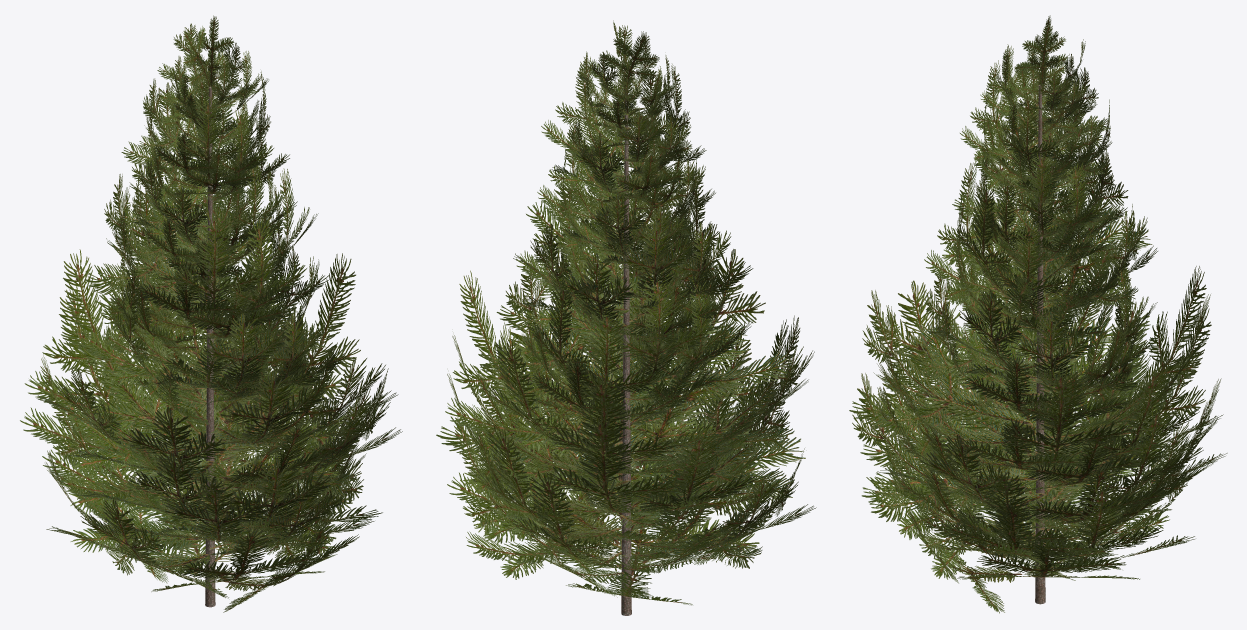
Rendered from tree.fbx.
The picture shows the model from 3 angles, left to right: view 1: azimuth 30°, elevation 25°; view 2: azimuth 150°, elevation 25°; view 3: azimuth 270°, elevation 25°; orthographic projection.
Parts seen in each view (by area): view 1: tree; view 2: tree; view 3: tree.
Boxes of the visible parts, x1,y1,x2,y2 form: tree: (20, 15, 402, 612); tree: (436, 20, 816, 615); tree: (849, 15, 1227, 613).
Bounding box in the file's own units: 61126 × 103765 × 62103.
